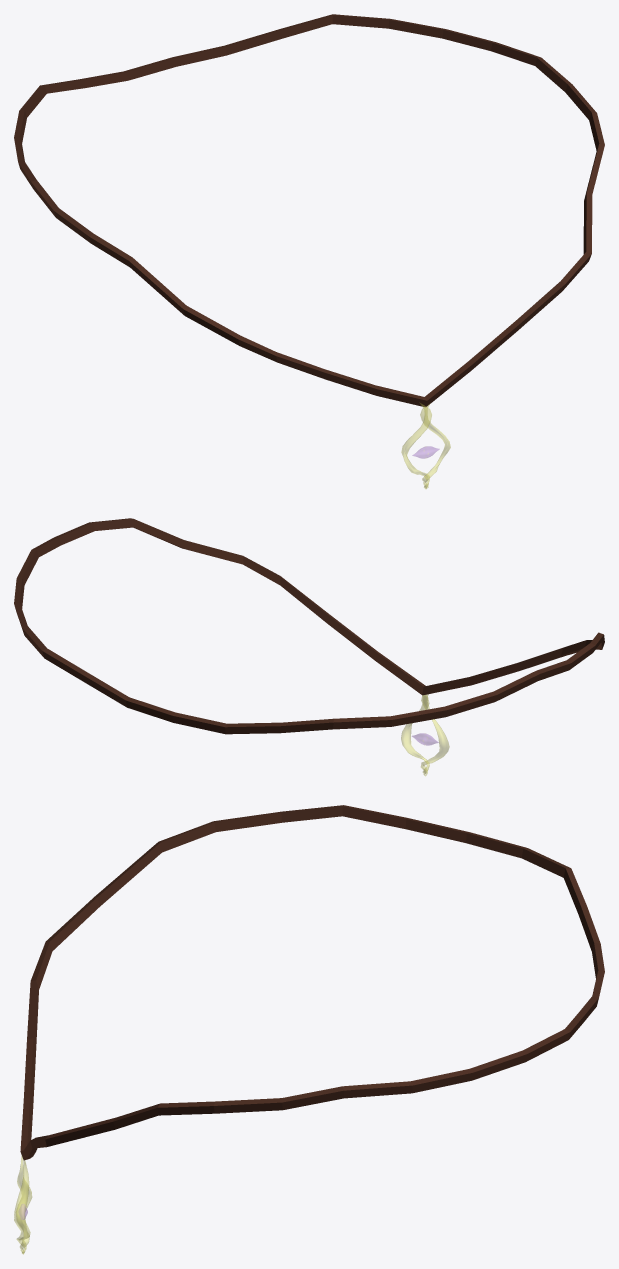
The model's file is collar.glb.
3 views of the same model, one above another, from view 1: azimuth 30°, elevation 25°; view 2: azimuth 150°, elevation 25°; view 3: azimuth 270°, elevation 25° (orthographic). The views are drawn at different scales.
Visible parts, largest first — view 1: Circle, Cube; view 2: Circle, Cube; view 3: Circle, Cube.
Part boxes in pixels (x1,y1,x2,y2): Circle: (14,14,604,406); Cube: (401,402,450,488); Circle: (14,518,604,734); Cube: (401,694,449,776); Circle: (20,805,604,1160); Cube: (14,1156,32,1254).
Size of the model in its own units: 1.53 by 0.758 by 1.32.
